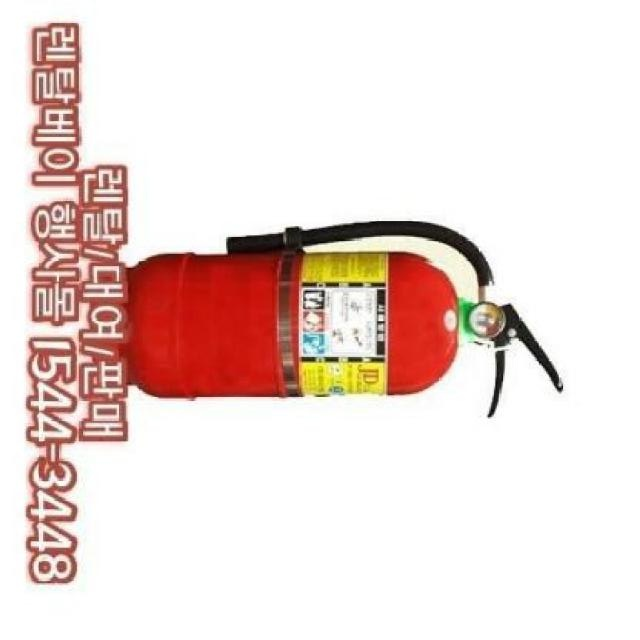fire extinguisher: (125, 218, 564, 418)
